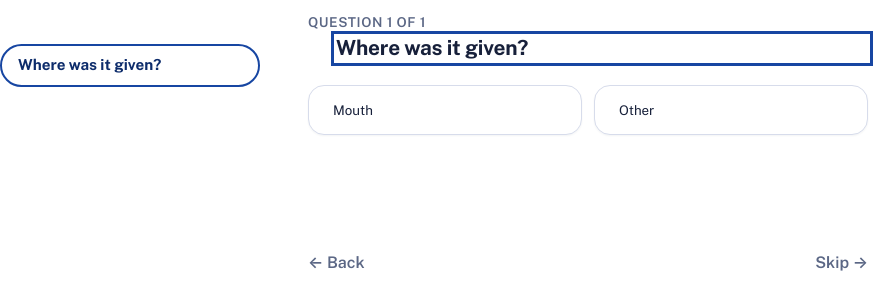
Test: ConversationalStep — a choice option requiring inline follow-up › REGRESSION: selecting 'Other' does not auto-advance, so the revealed field is actually visible
What coordinates should you click on to do the following:
click the button "Other"
I would click on:
 (637, 110)
Its box is 594,85 -> 868,135.
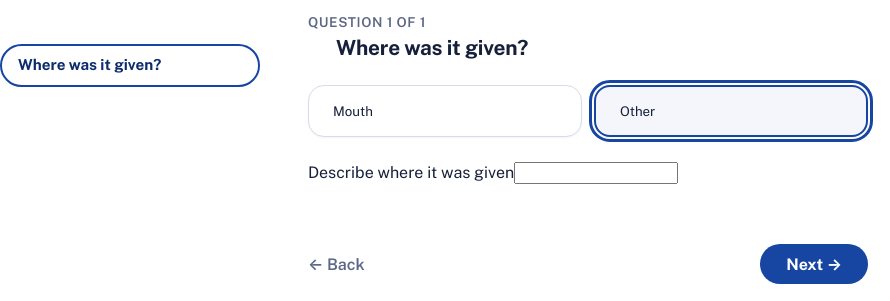
Expected: the heading "Where was it given?" is shown, 336,35 -> 528,60
Expected: the field labelled "Describe where it was given" is shown, 514,162 -> 678,184
